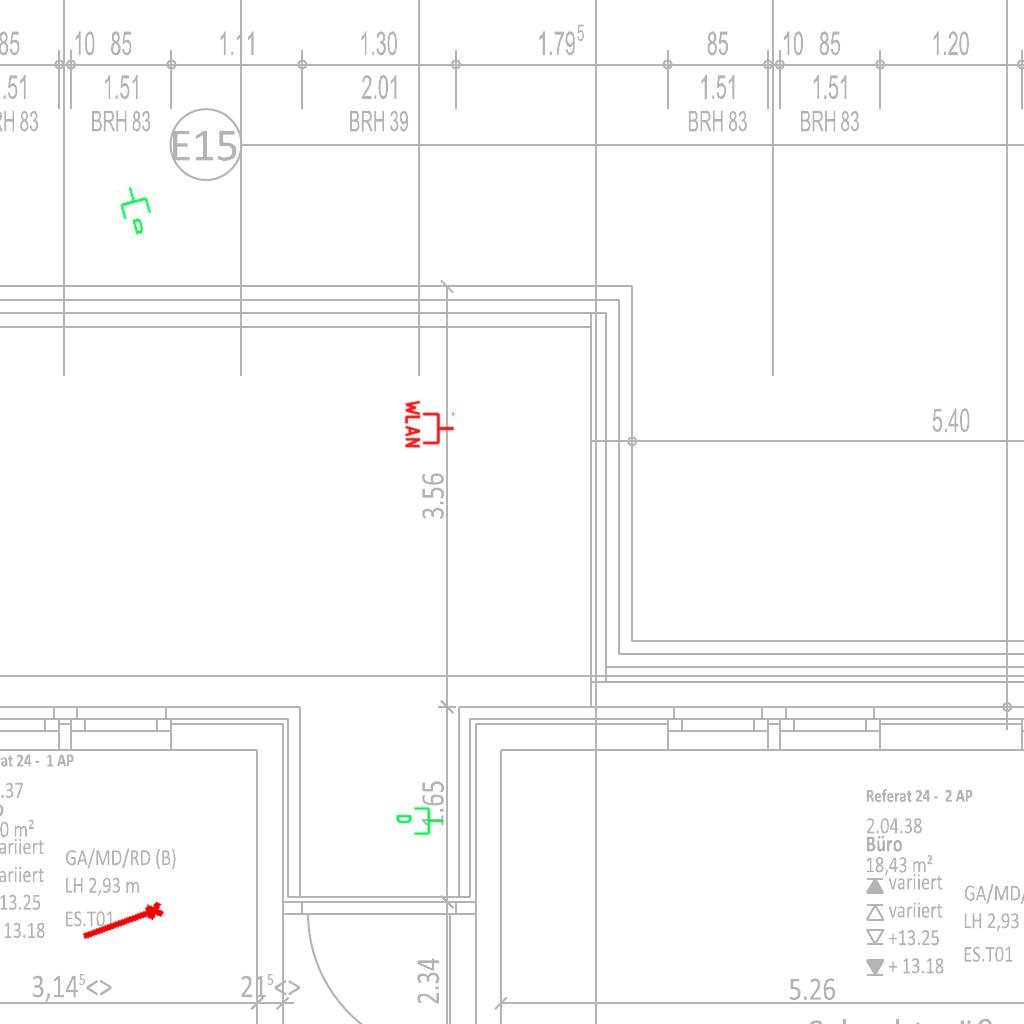ASR_Ansaugoeffnung: (77, 897, 169, 950)
Datenanschluss_einfach: (114, 181, 160, 239), (395, 805, 445, 839)
WLAN: (404, 398, 456, 450)
